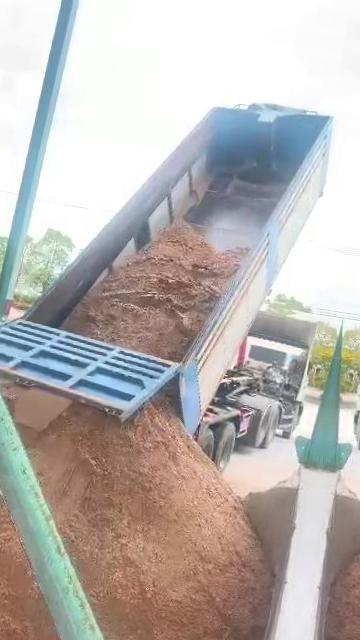sand: (19, 397, 271, 640), (65, 226, 244, 359), (0, 440, 65, 640), (243, 475, 296, 577), (13, 389, 67, 431), (0, 381, 17, 415)
